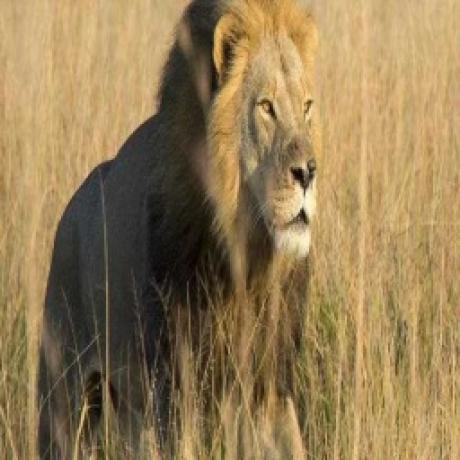Lion: (35, 0, 322, 460)
